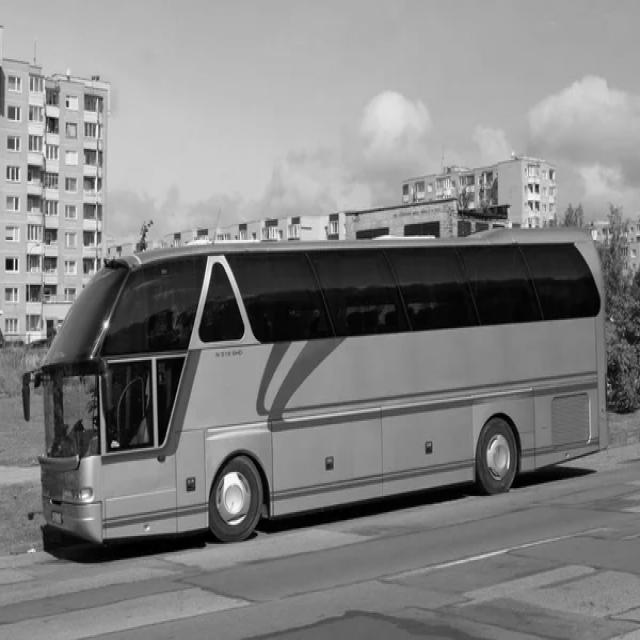Bus: (30, 231, 608, 544)
